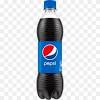pepsi_bottle: (37, 1, 63, 100)
